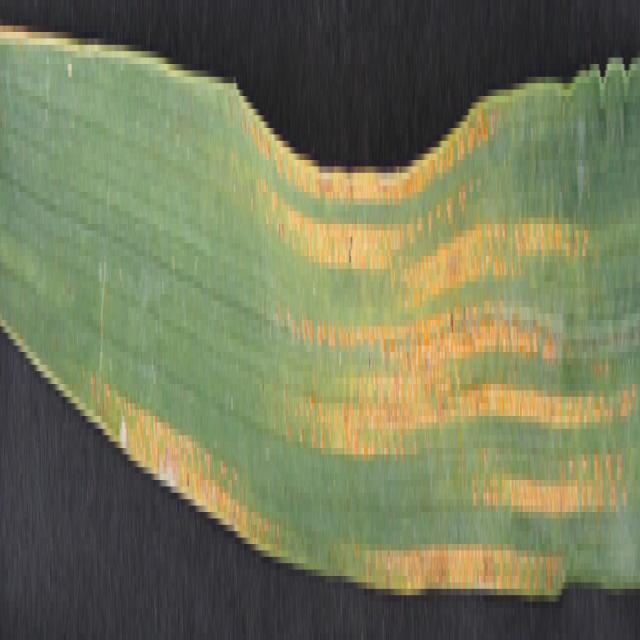leaf rust: (84, 6, 635, 582)
